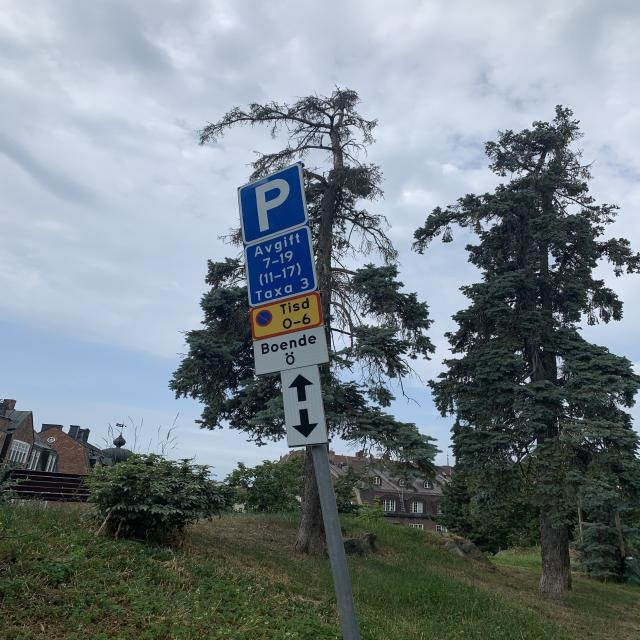P-skylt: (236, 159, 311, 247)
